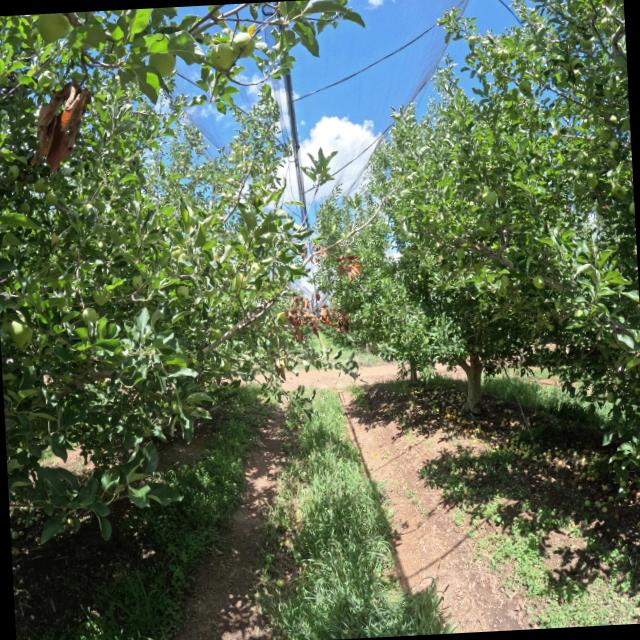-FireBlight-: (34, 85, 96, 174), (284, 293, 352, 341), (334, 252, 366, 285), (302, 242, 326, 266)
